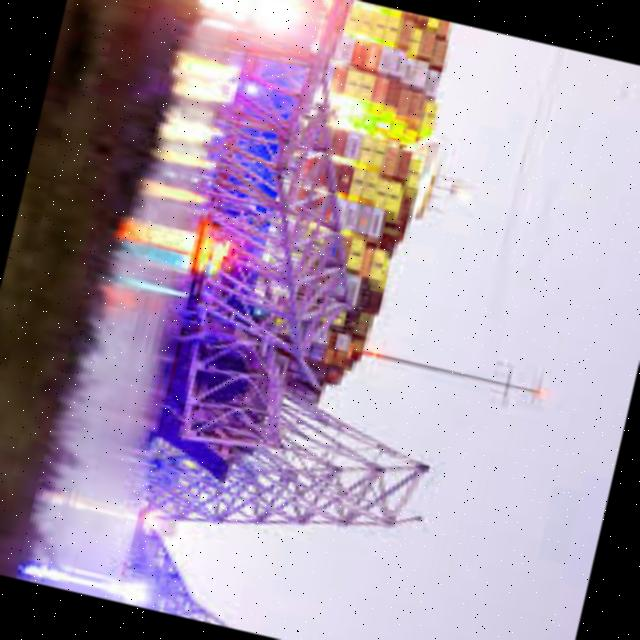bridge collapse: (8, 21, 559, 640)
